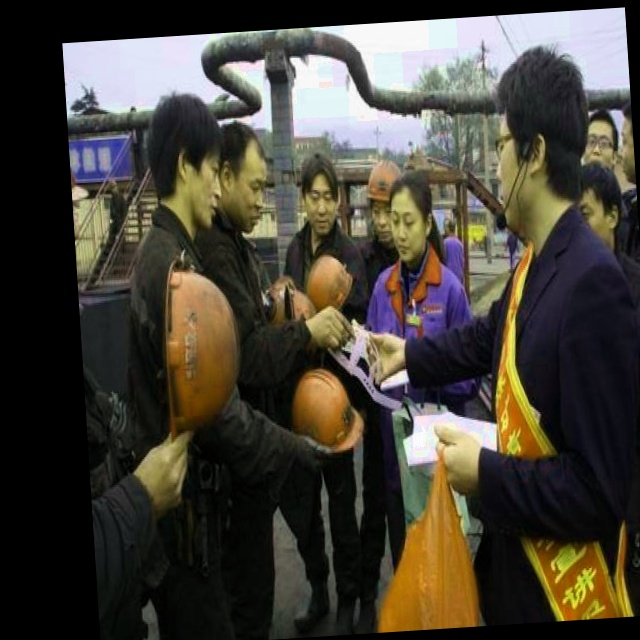Sin_Casco_Mascarrilla: (385, 170, 437, 264), (297, 152, 344, 234)
